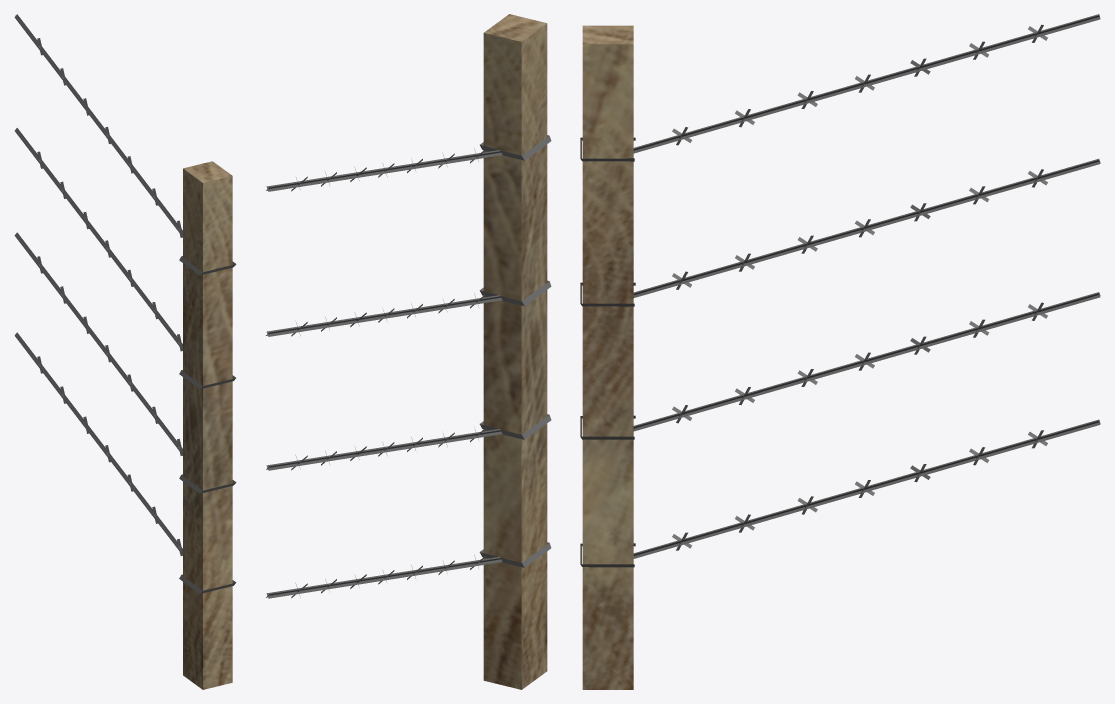
The model's file is barbed-fence-medium-with-angle.glb.
The picture shows the model from 3 angles, left to right: view 1: azimuth 30°, elevation 25°; view 2: azimuth 150°, elevation 25°; view 3: azimuth 270°, elevation 25°; orthographic projection. The views are drawn at different scales.
Visible parts, largest first — view 1: Cube.028; view 2: Cube.028; view 3: Cube.028.
Boxes of the visible parts, bbox=[...] form: Cube.028: bbox=[14, 14, 236, 689]; Cube.028: bbox=[266, 14, 551, 689]; Cube.028: bbox=[580, 14, 1100, 689].
Size of the model in its own units: 0.0941 by 1.32 by 0.932.
3 materials, 1 textured.
